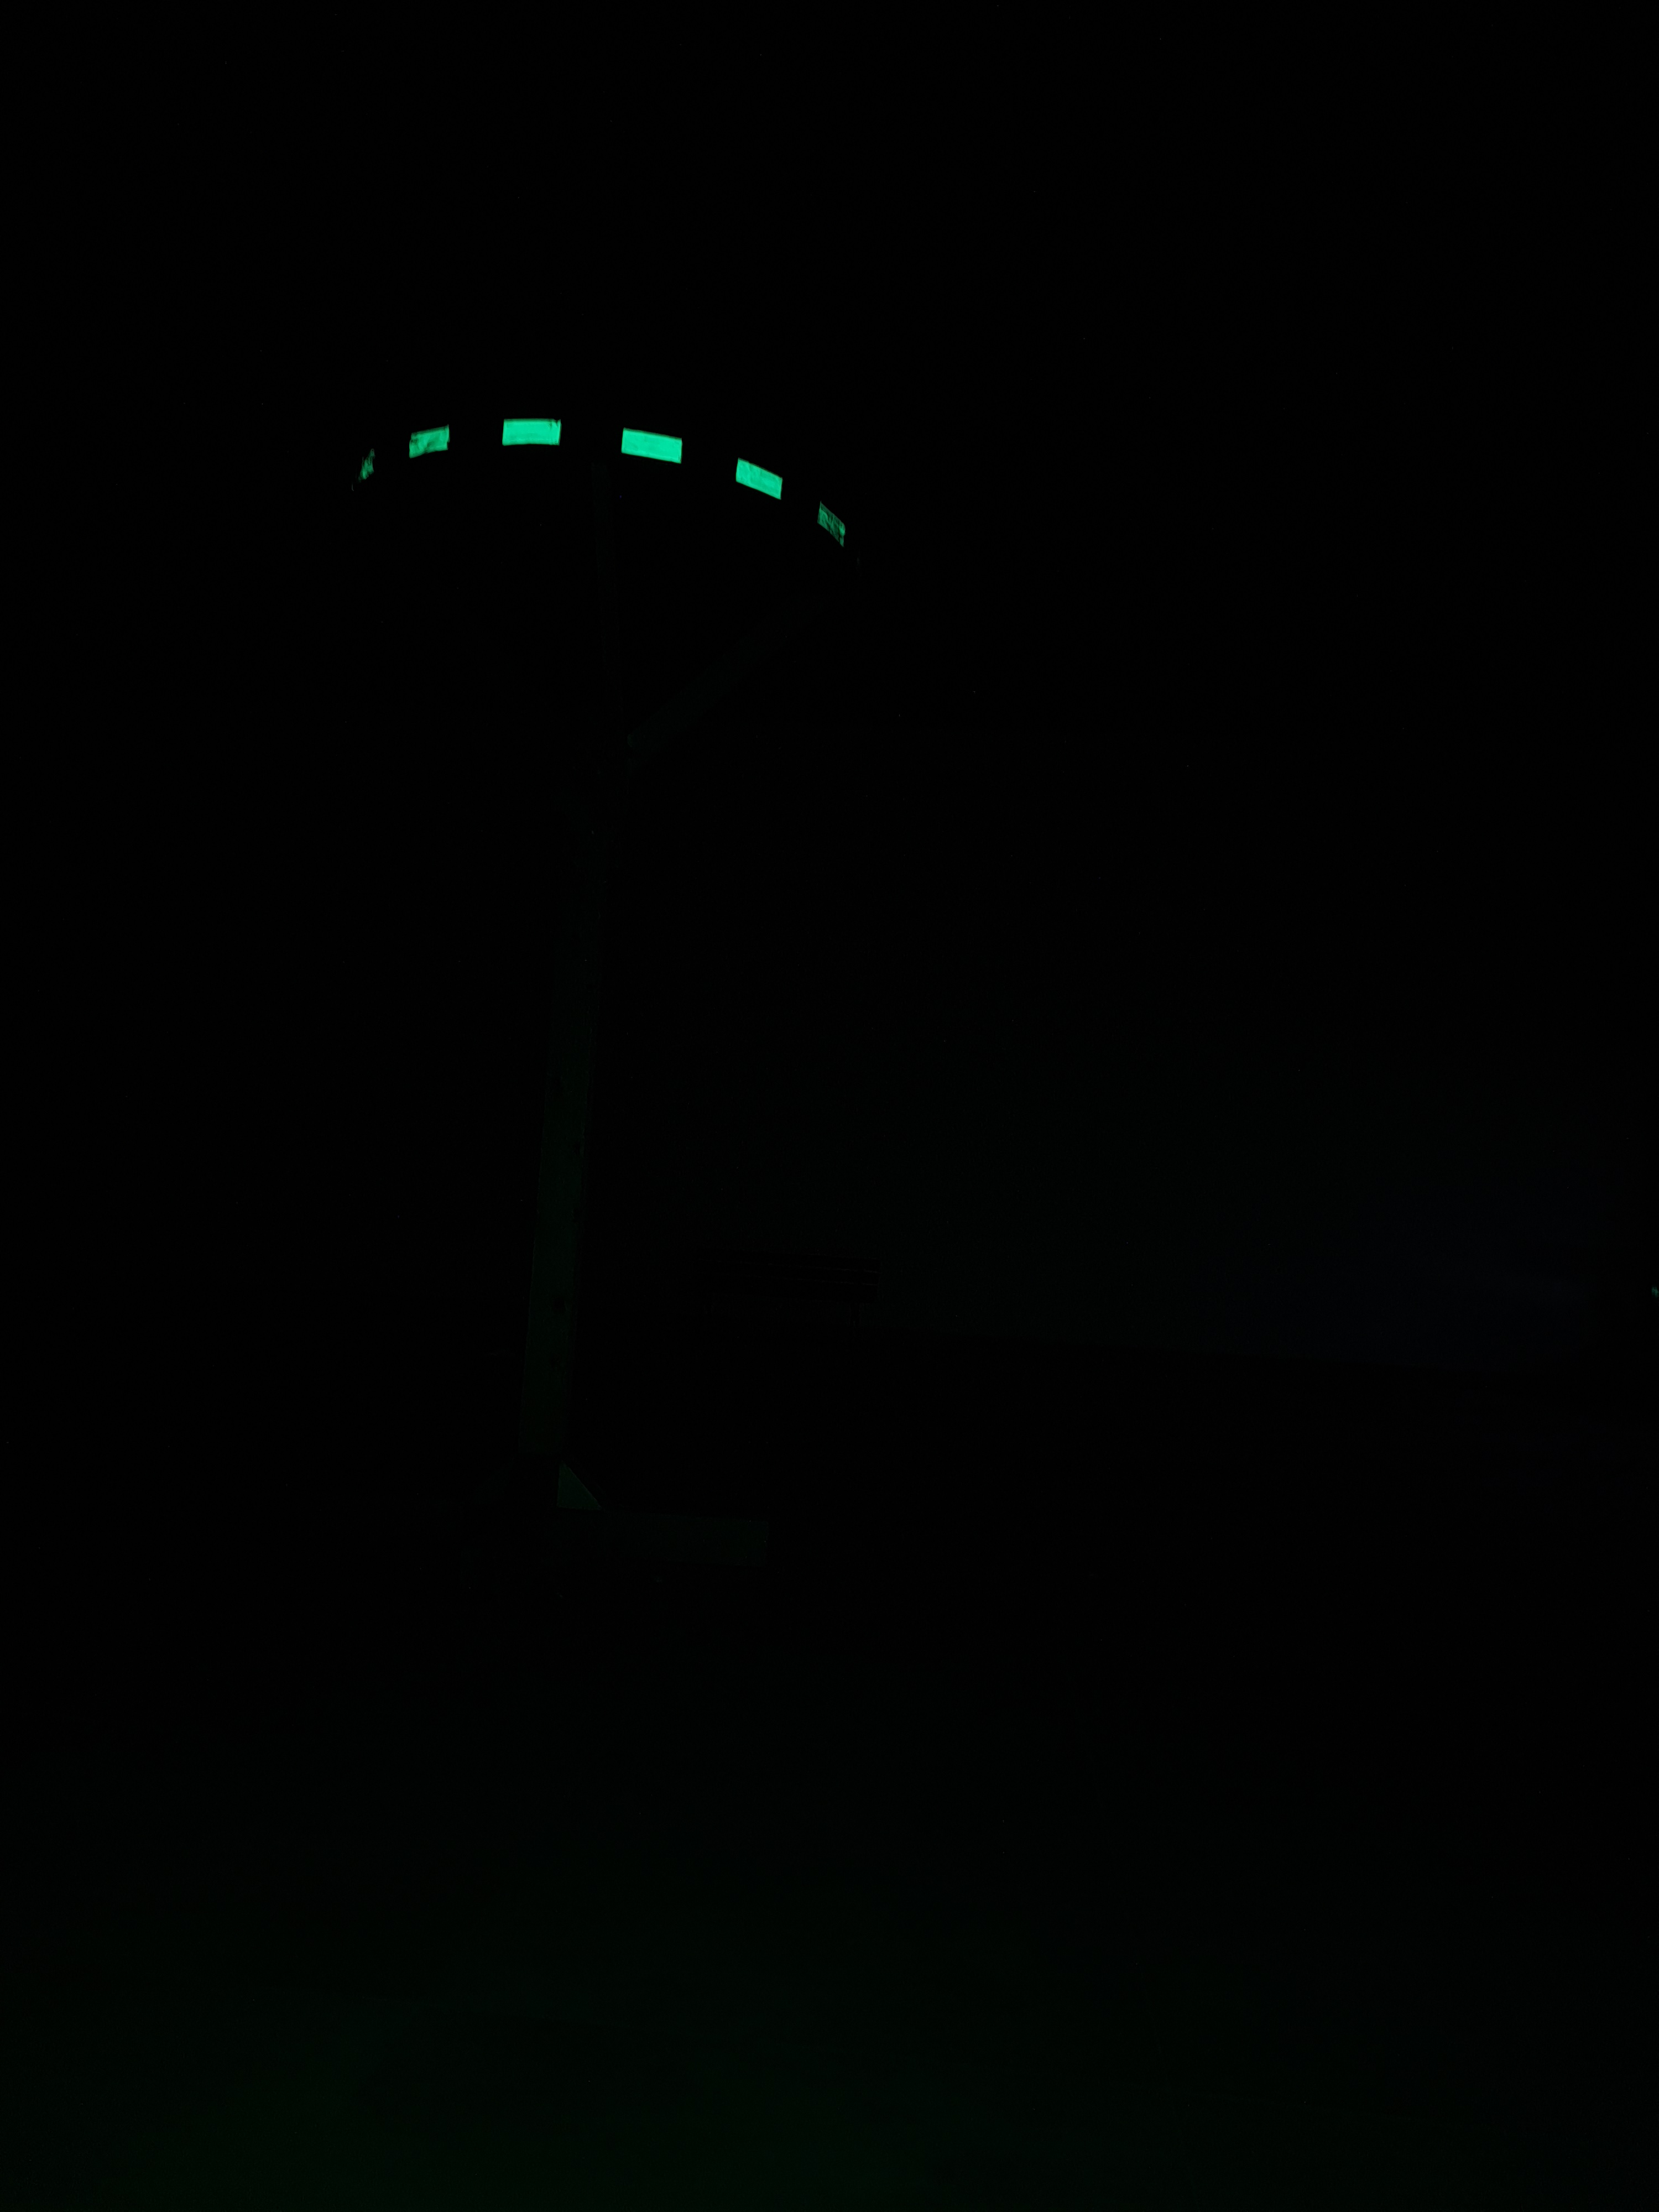hoop: (345, 406, 852, 552)
